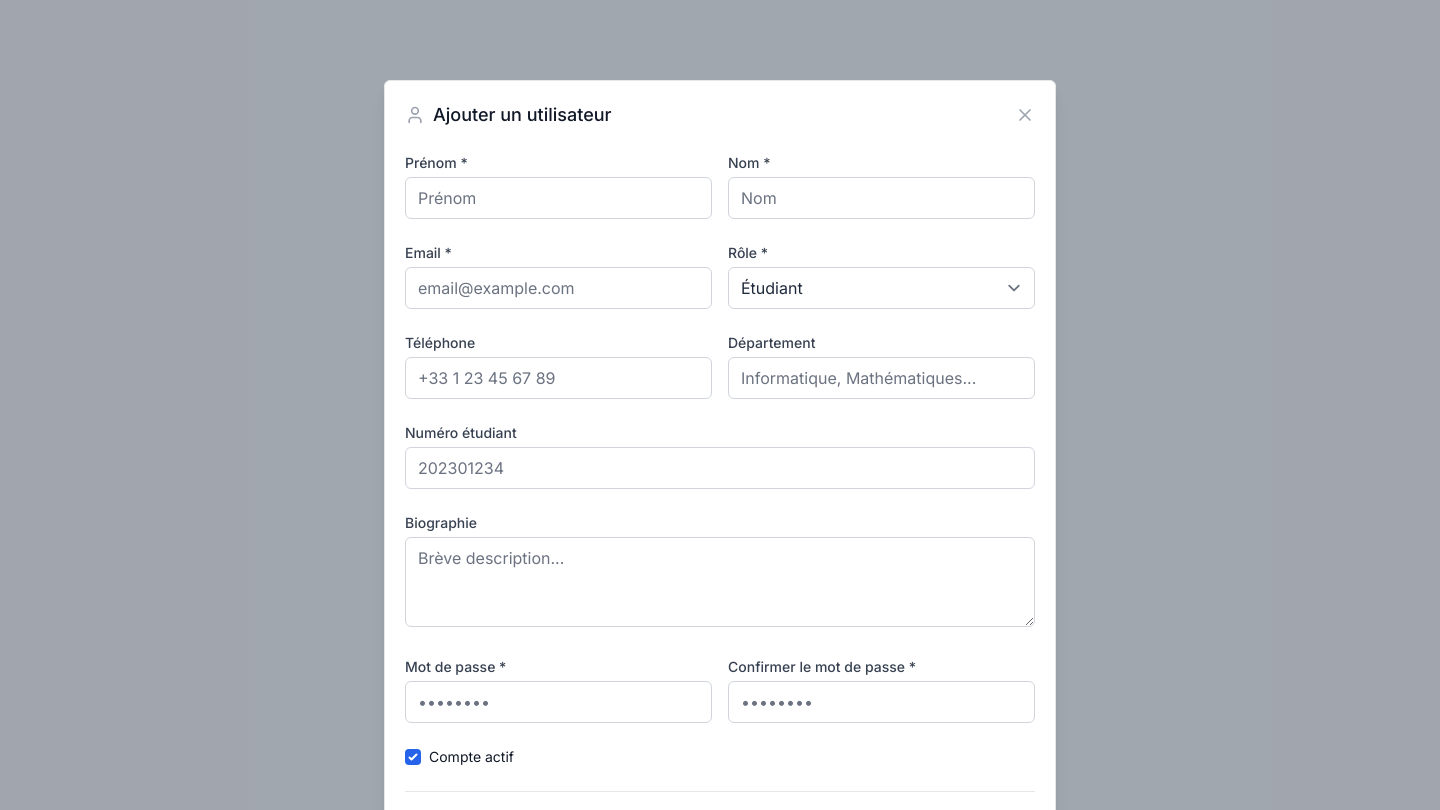
Test: UserForm › form validation › should validate password confirmation match
In the password field labelled "Mot de passe *": (558,702) left=405, top=681, right=712, bottom=723, type "password123"
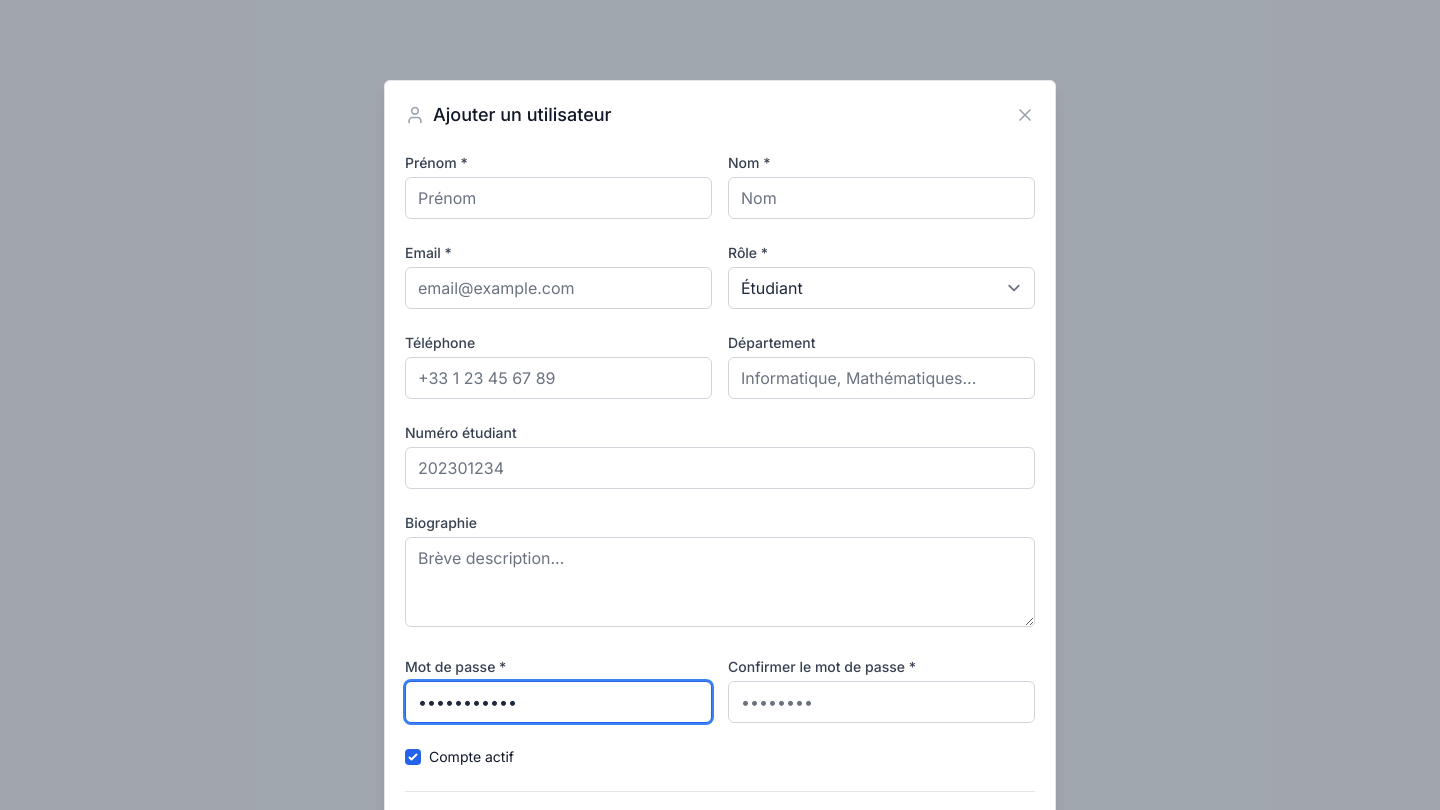
In the password field labelled "Confirmer le mot de passe *": (882,702) left=728, top=681, right=1035, bottom=723, type "different123"
(page scrolled)
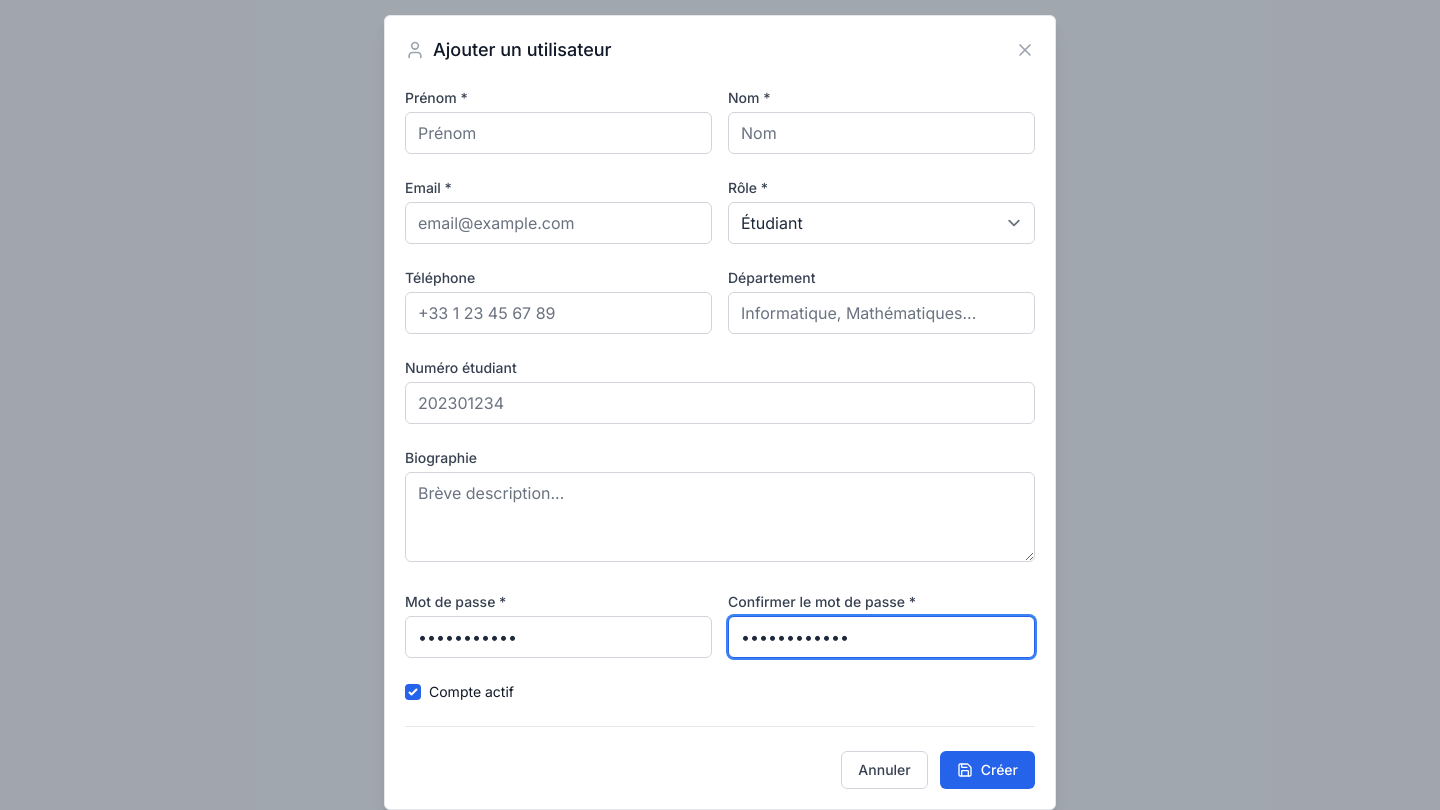
Click the button "Créer": (987,770) left=940, top=751, right=1035, bottom=789
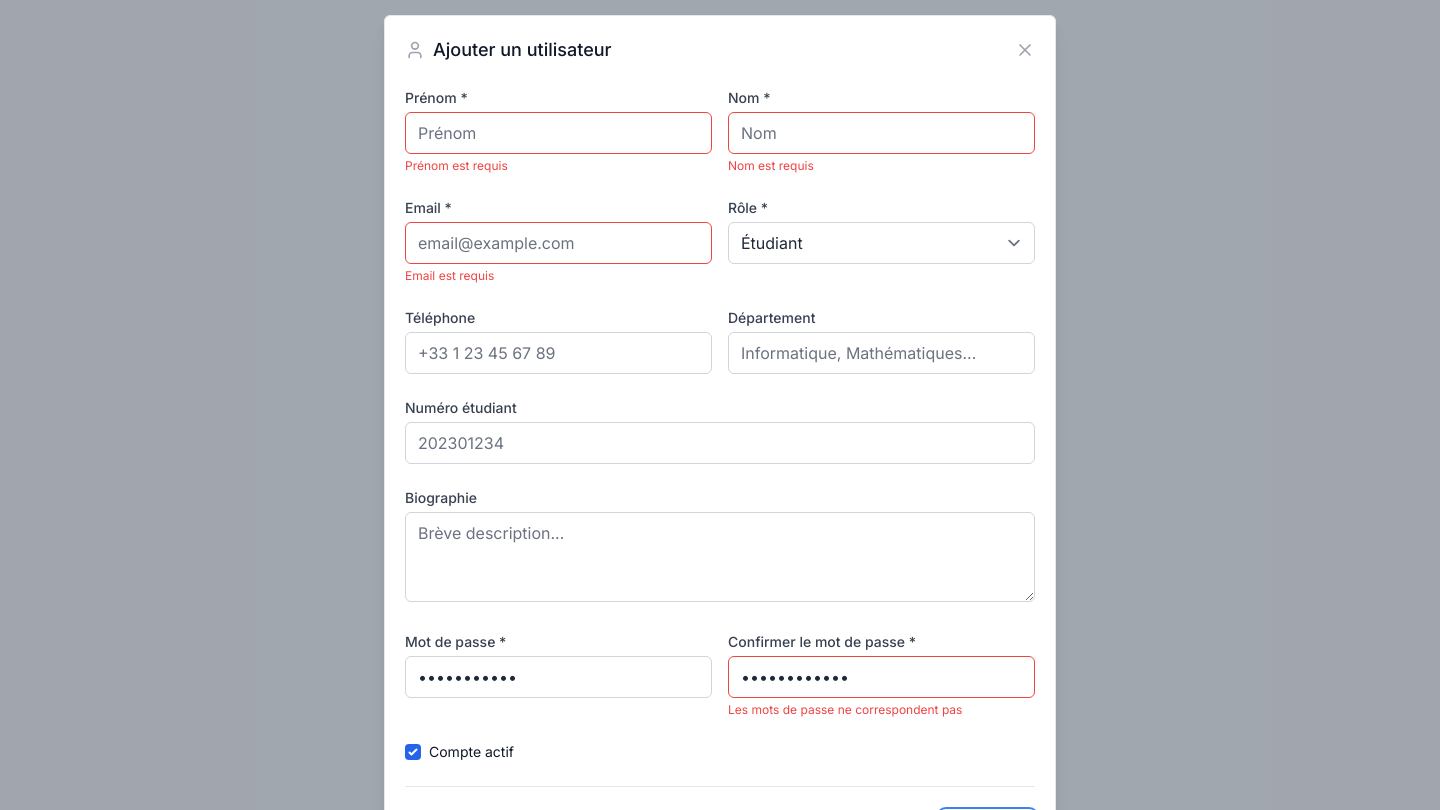
Now the text "Les mots de passe ne correspondent pas" is shown, box left=728, top=702, right=962, bottom=717
